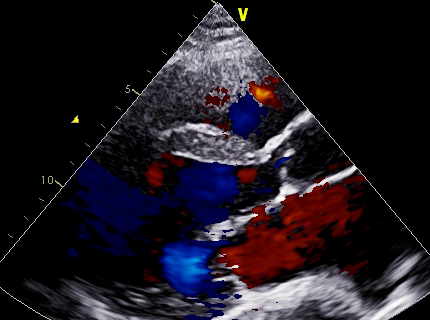AR: (235, 164, 275, 208)
